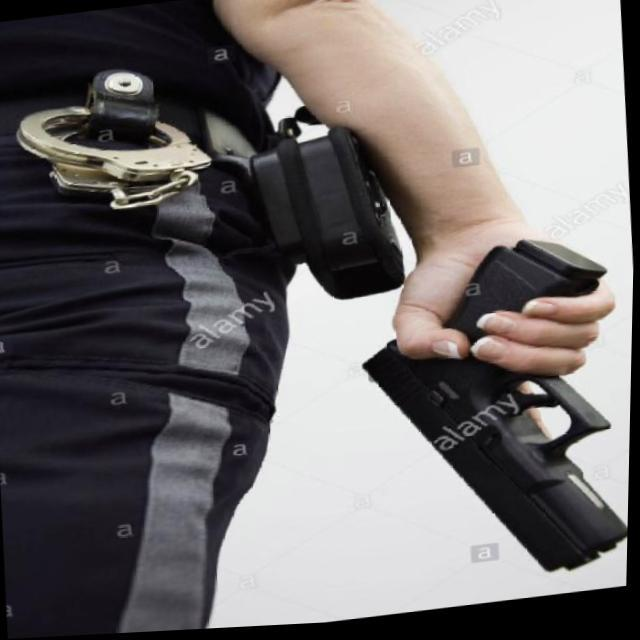weapon: (350, 232, 636, 599)
